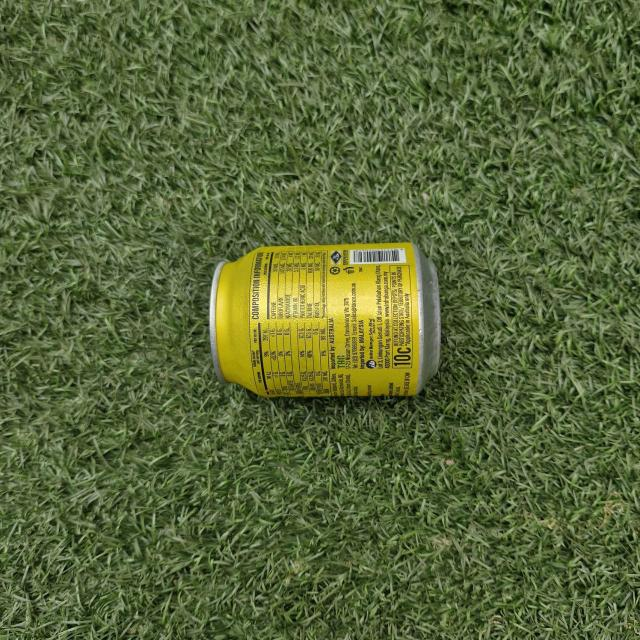metal: (205, 241, 453, 407)
